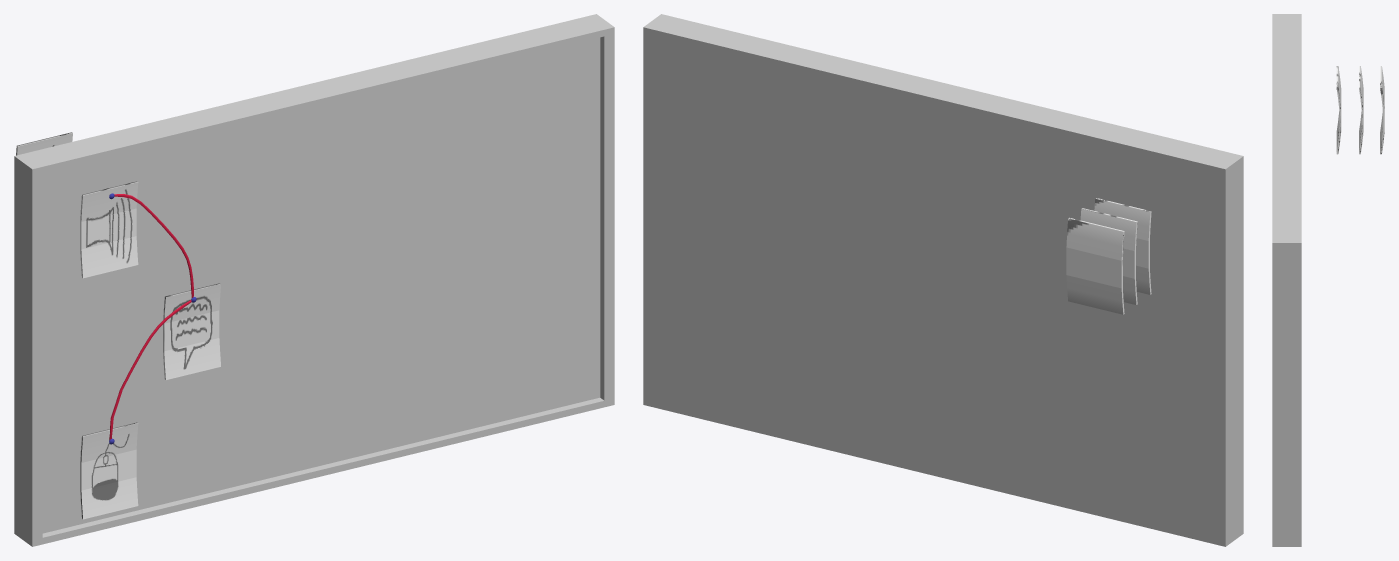
Rendered from Quadro.fbx.
3 views of the same model, side by side, from view 1: azimuth 30°, elevation 25°; view 2: azimuth 150°, elevation 25°; view 3: azimuth 270°, elevation 25° (orthographic). The views are drawn at different scales.
Visible parts, largest first — view 1: Cube, Cube.004, Cube.003, Cube.001, Cube.002; view 2: Cube, Cube.009, Cube.007, Cube.008; view 3: Cube, Cube.007, Cube.009, Cube.008.
Part boxes in pixels (x1,y1,x2,y2): Cube: (14,14,614,546); Cube.004: (32,27,614,546); Cube.003: (80,422,138,519); Cube.001: (80,181,138,278); Cube.002: (163,283,220,379); Cube: (643,14,1243,546); Cube.009: (1066,217,1124,314); Cube.007: (1094,198,1151,294); Cube.008: (1080,208,1137,304); Cube: (1272,14,1301,546); Cube.007: (1336,66,1341,154); Cube.009: (1380,66,1384,154); Cube.008: (1359,66,1363,154).
Size of the model in its own units: 1078 by 668 by 224.
Materials: 9 (6 with a texture image).
